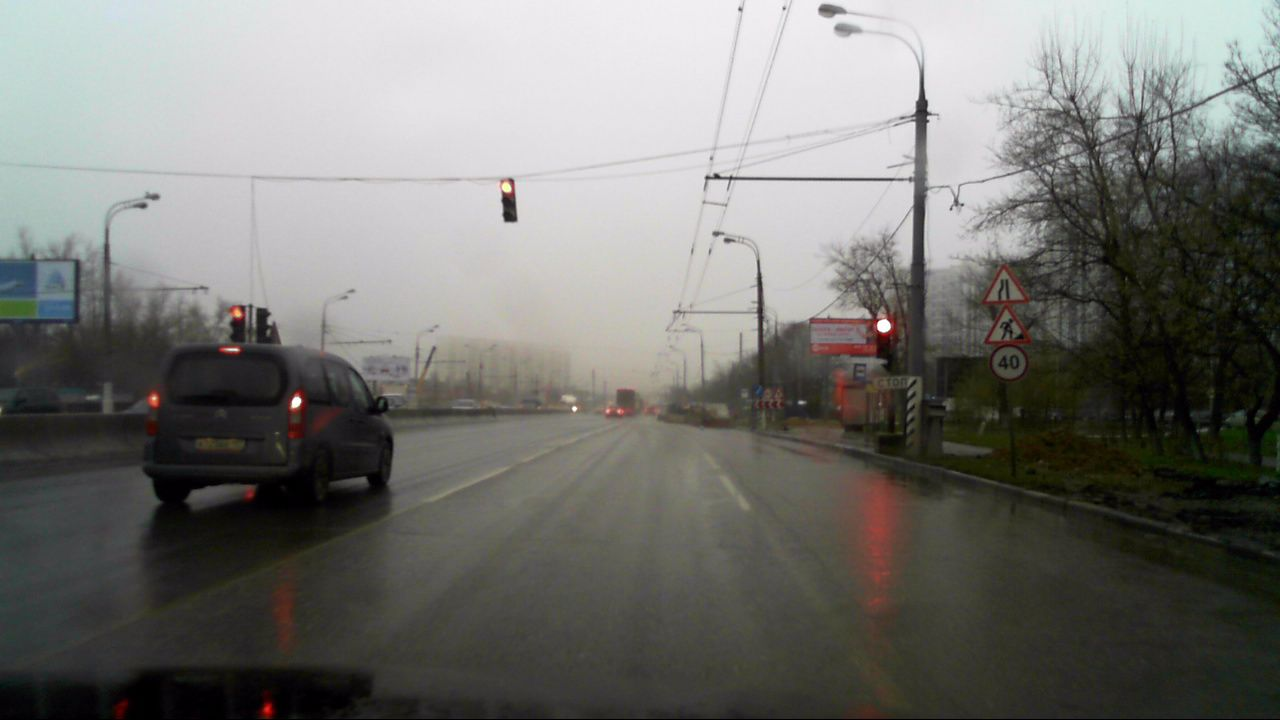speed_warning_40: (990, 344, 1028, 381)
